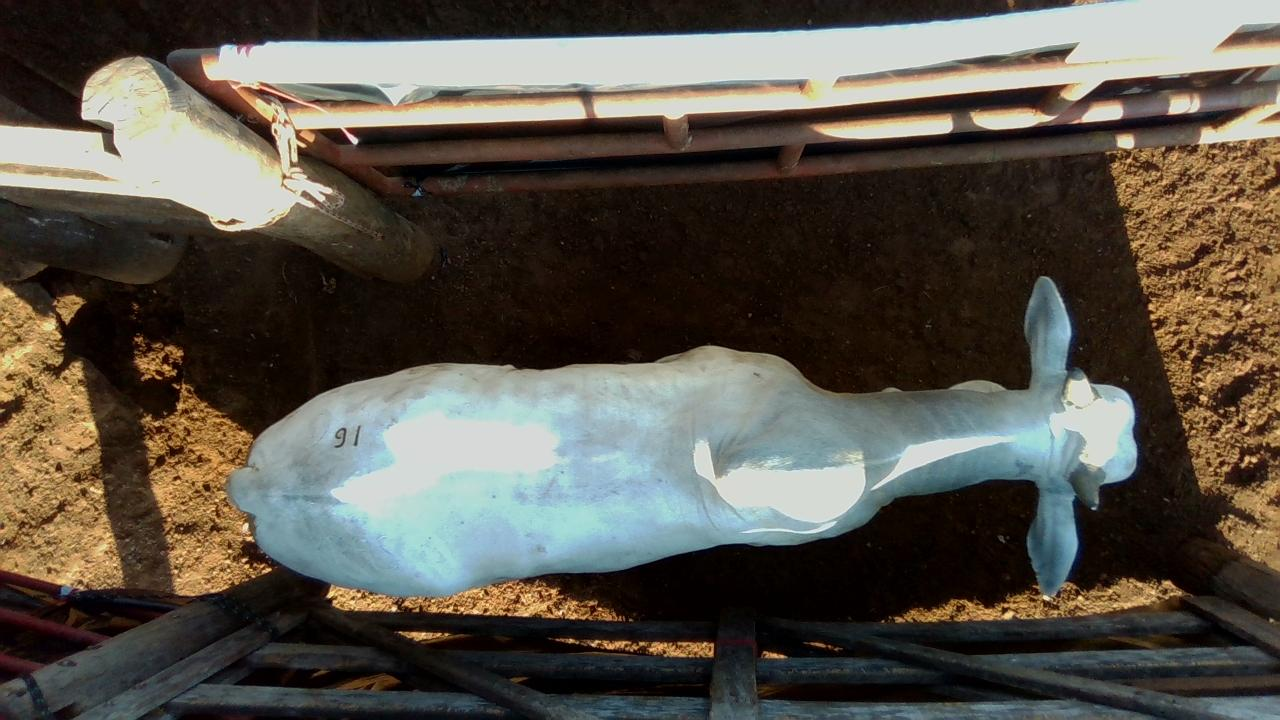cattle: (224, 273, 1139, 602)
